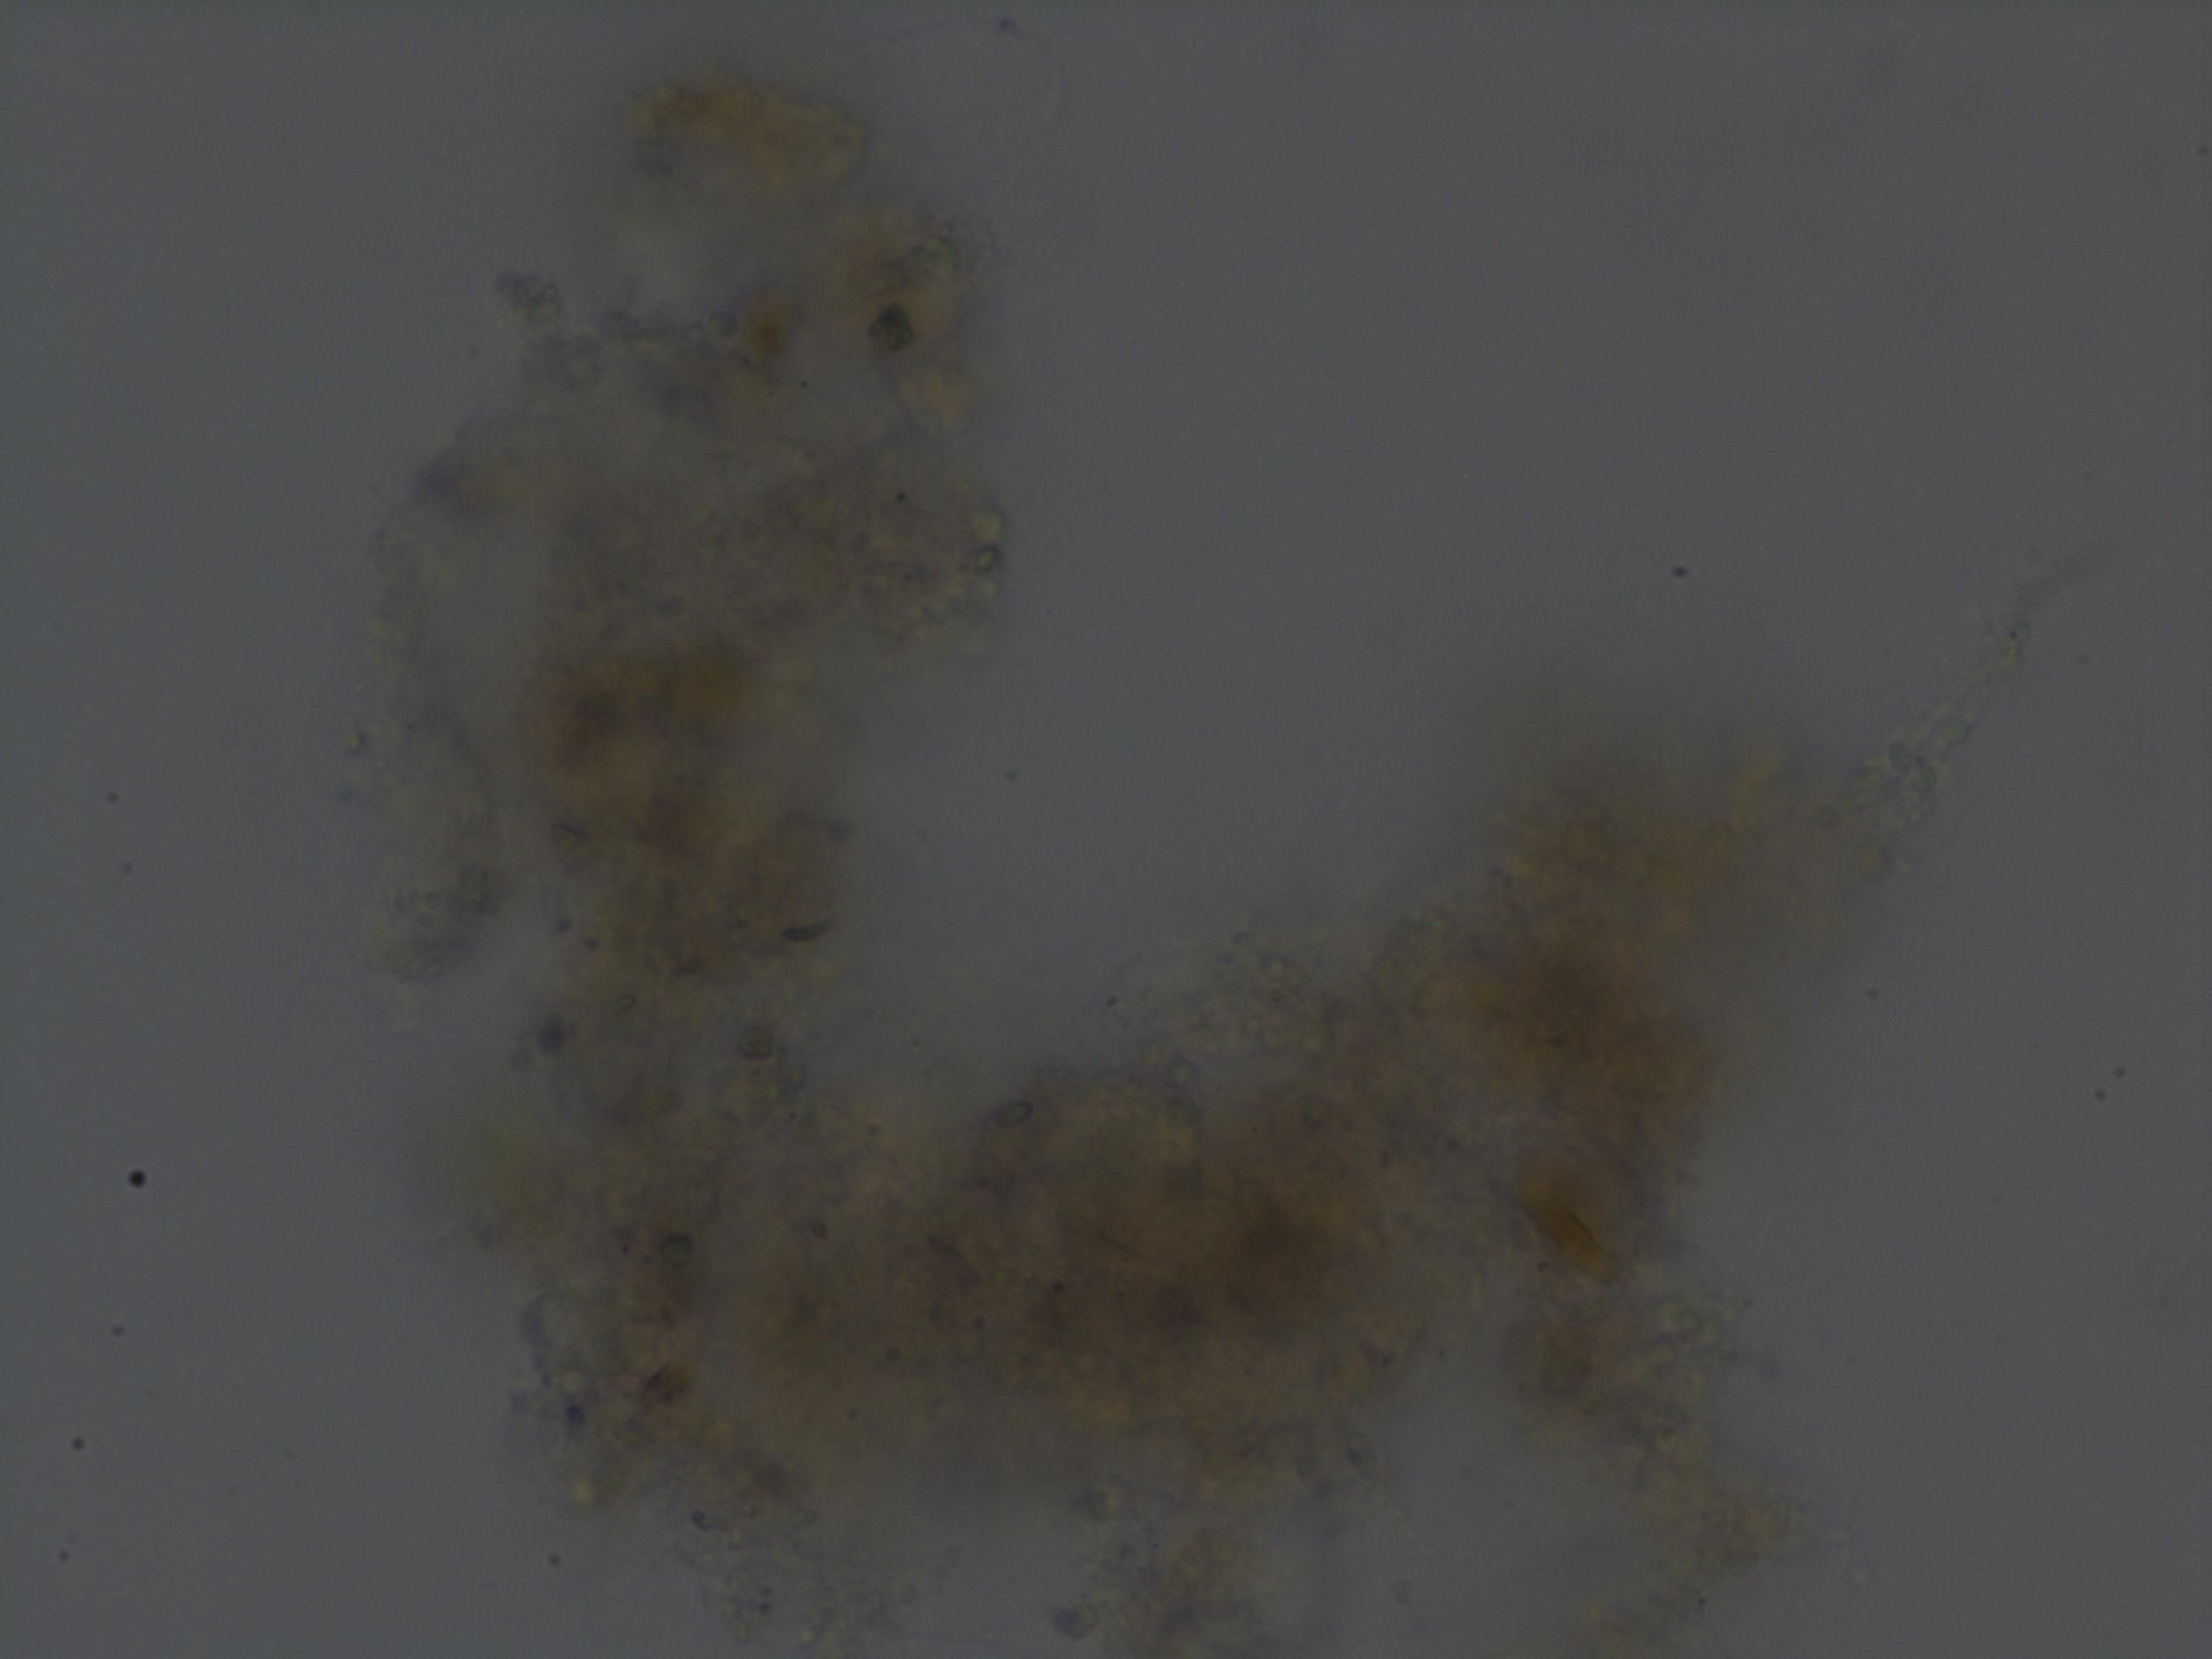open_floc: (357, 49, 2050, 1659)
